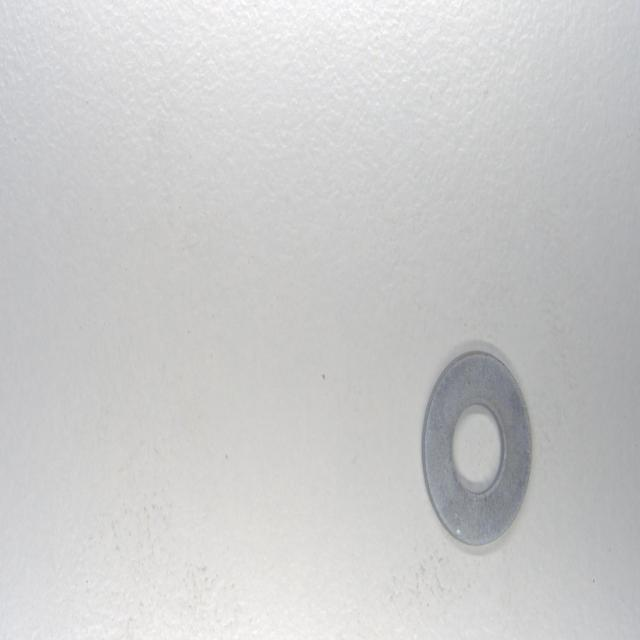washer: (419, 343, 534, 555)
